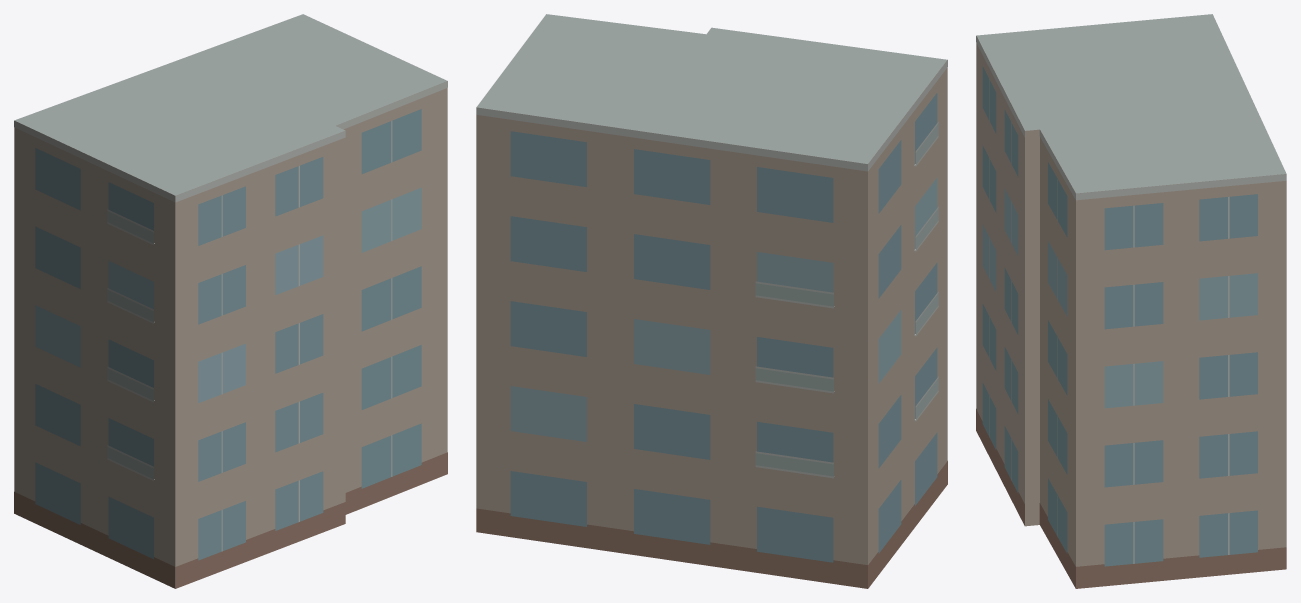
File: survey-upis-32707143.glb
The picture shows the model from 3 angles, left to right: view 1: azimuth 30°, elevation 25°; view 2: azimuth 150°, elevation 25°; view 3: azimuth 270°, elevation 25°; orthographic projection. The views are drawn at different scales.
Parts seen in each view (by area): view 1: survey-upis-32707143.tmp; view 2: survey-upis-32707143.tmp; view 3: survey-upis-32707143.tmp.
Part boxes in pixels (x1,y1,x2,y2): survey-upis-32707143.tmp: [14, 14, 447, 588]; survey-upis-32707143.tmp: [476, 14, 947, 588]; survey-upis-32707143.tmp: [976, 14, 1286, 588].
Size of the model in its own units: 13.74 by 14.1 by 10.04.
